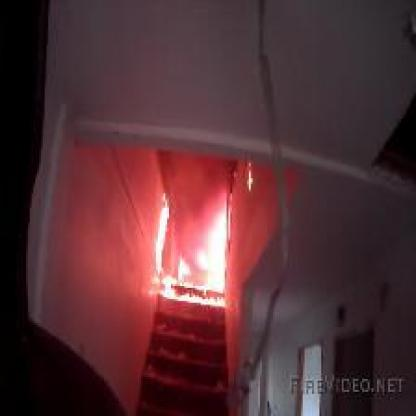fire: (156, 184, 230, 307), (239, 160, 257, 191)
